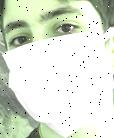with_mask: (2, 1, 114, 138)
